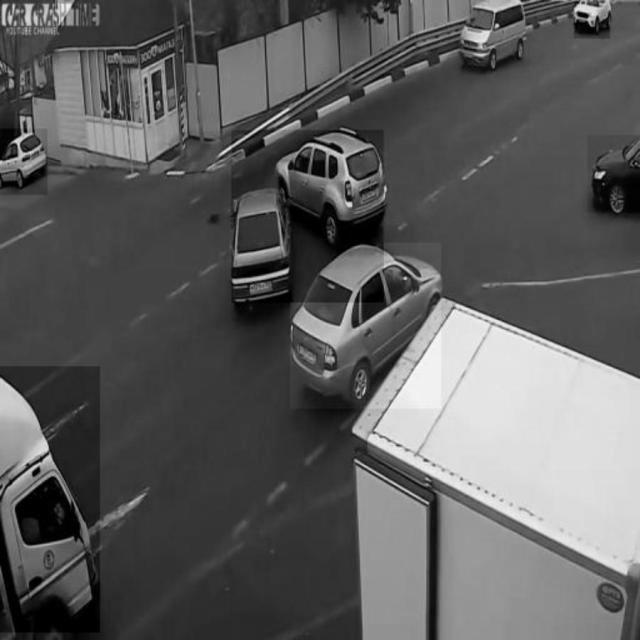accident: (231, 130, 383, 302)
vehicle: (0, 366, 100, 632), (290, 243, 441, 409), (460, 0, 531, 71), (588, 135, 640, 212), (0, 129, 47, 195), (573, 0, 609, 38)
